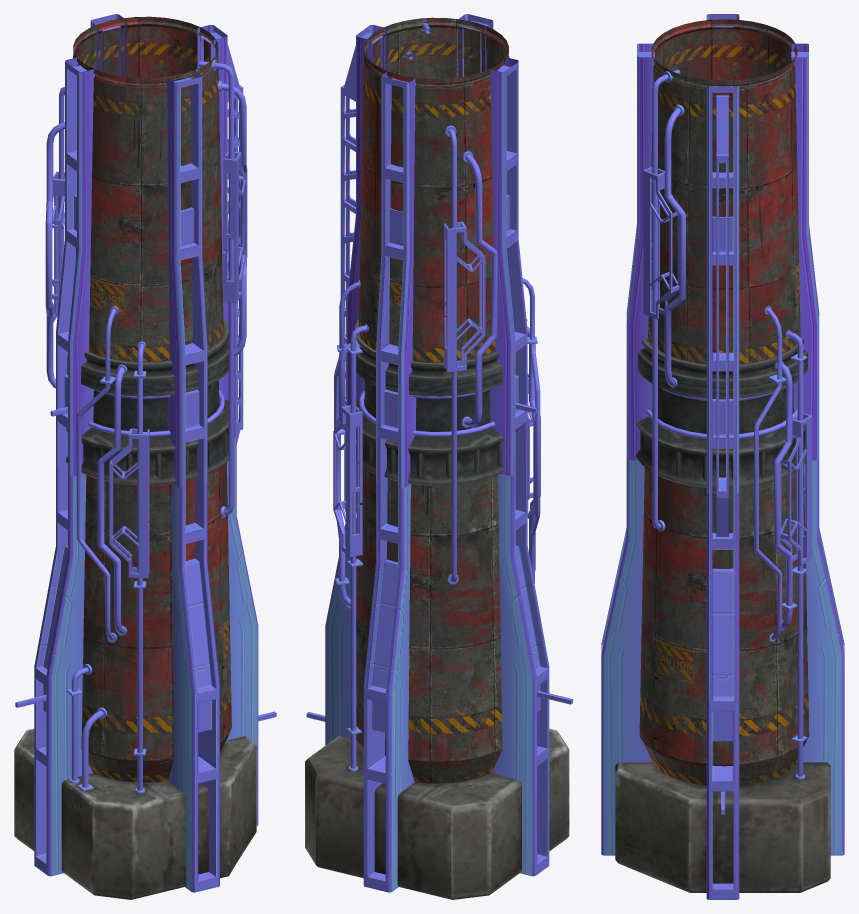
The model's file is Pagoda_Pillar_6000_A.FBX.
3 views of the same model, side by side, from view 1: azimuth 30°, elevation 25°; view 2: azimuth 150°, elevation 25°; view 3: azimuth 270°, elevation 25° (orthographic).
Visible parts, largest first — view 1: Geometry_Pagoda_Pillar_6000_A_LOD00; view 2: Geometry_Pagoda_Pillar_6000_A_LOD00; view 3: Geometry_Pagoda_Pillar_6000_A_LOD00.
Part boxes in pixels (x1,y1,x2,y2): Geometry_Pagoda_Pillar_6000_A_LOD00: [14, 14, 276, 899]; Geometry_Pagoda_Pillar_6000_A_LOD00: [305, 14, 572, 899]; Geometry_Pagoda_Pillar_6000_A_LOD00: [601, 14, 844, 899].
Size of what is drawn, in the model's own units: 2062 by 6000 by 1655.
